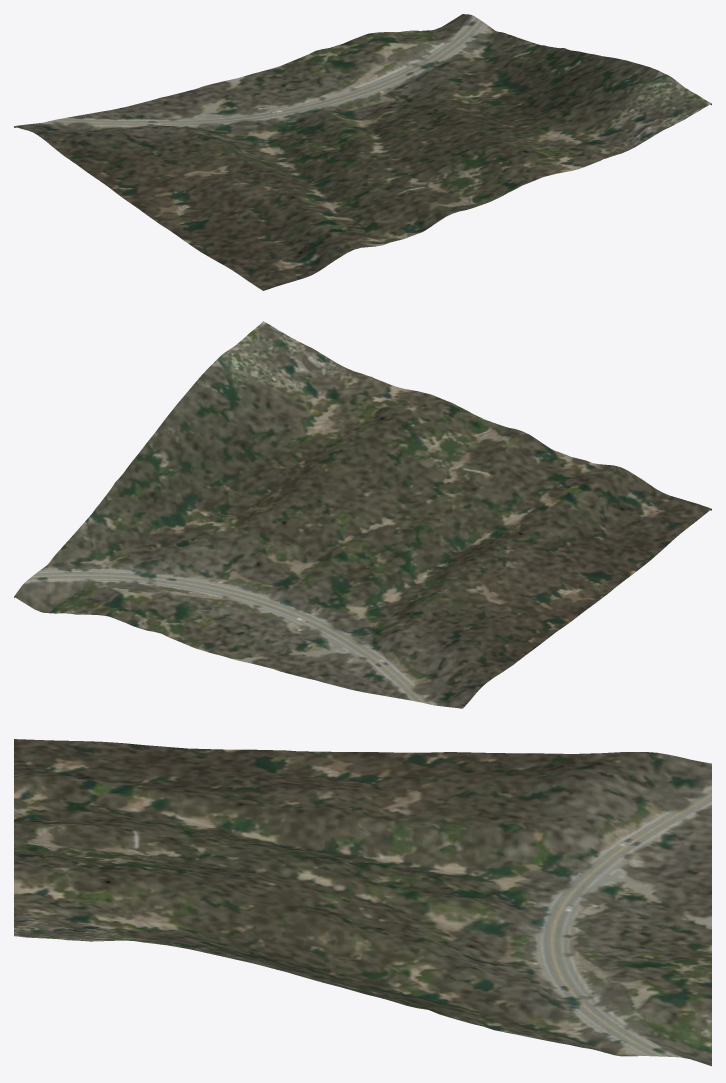
The picture shows the model from 3 angles, top to bottom: view 1: azimuth 30°, elevation 25°; view 2: azimuth 150°, elevation 25°; view 3: azimuth 270°, elevation 25°; orthographic projection. The views are drawn at different scales.
Bounding box in the file's own units: 250 × 56.22 × 241.
1 material, 1 textured.
